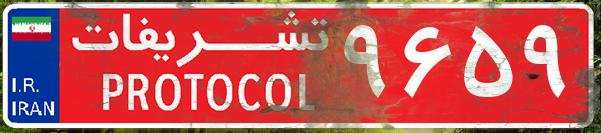5: (460, 20, 520, 115)
6: (400, 20, 460, 115)
9: (340, 20, 400, 115), (520, 20, 580, 115)
تشریفات: (60, 8, 340, 125)
